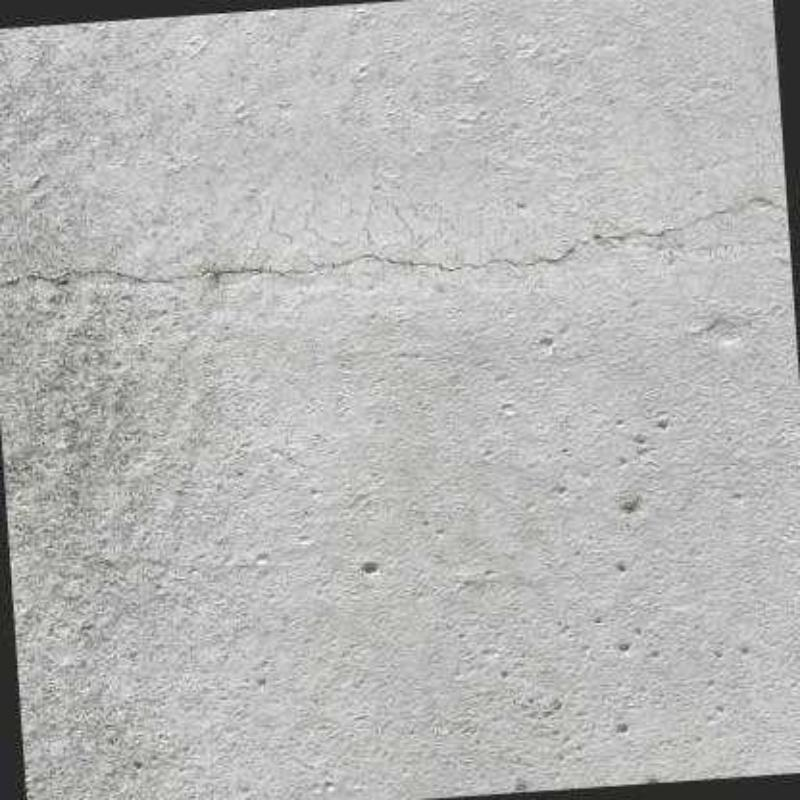crack: (0, 194, 790, 291)
